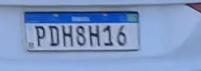Placa_mercosul_carro: (23, 9, 141, 53)
